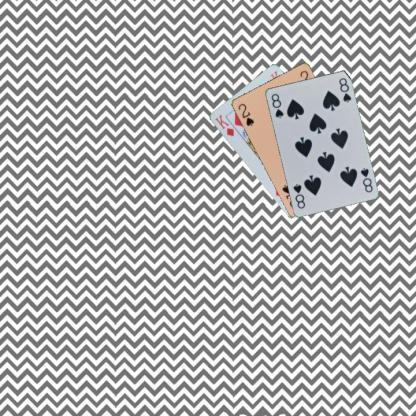2s: (235, 101, 256, 128)
8s: (268, 90, 284, 119), (358, 165, 374, 194)
Kd: (212, 112, 235, 138)
